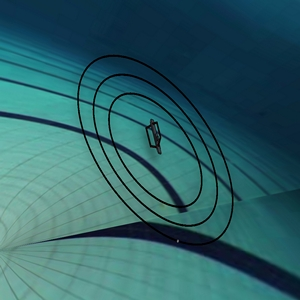circle: (53, 31, 258, 274)
submarine: (132, 112, 173, 160)
